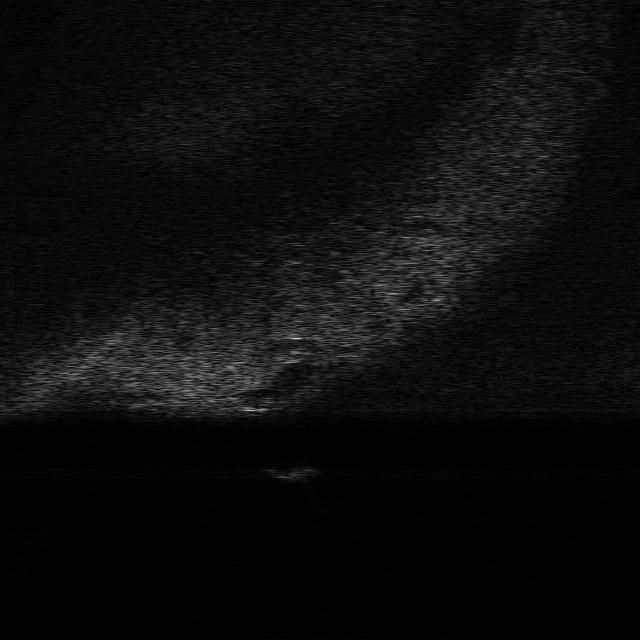cube: (258, 463, 320, 485)
